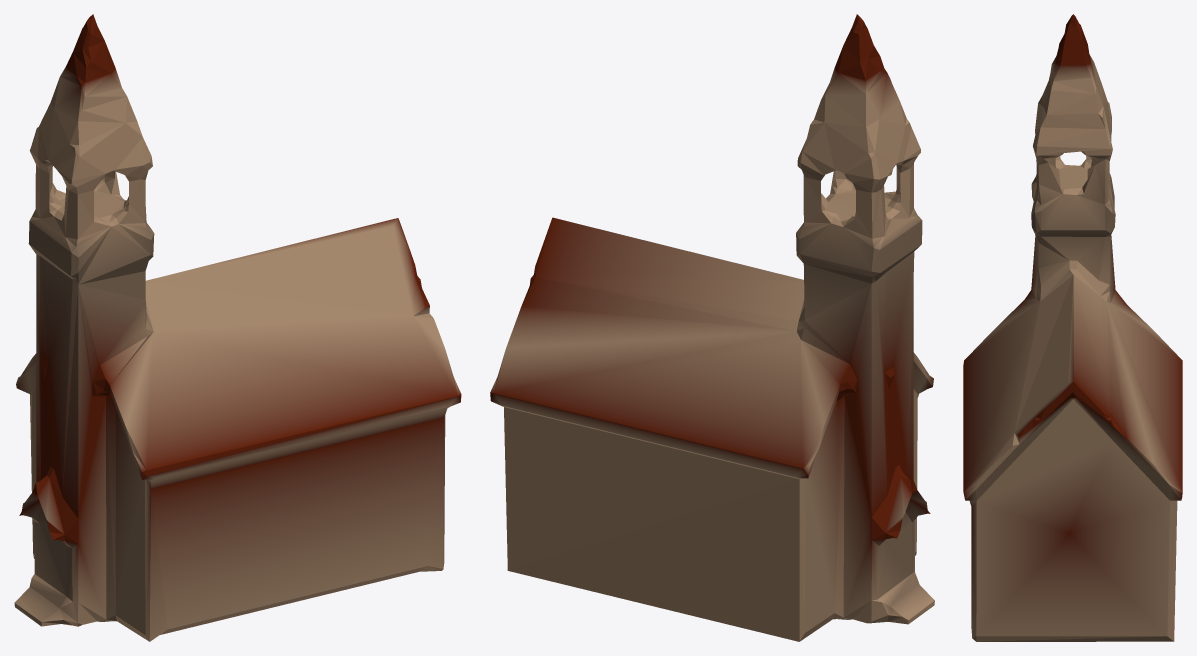
File: Churches.glb
The picture shows the model from 3 angles, left to right: view 1: azimuth 30°, elevation 25°; view 2: azimuth 150°, elevation 25°; view 3: azimuth 270°, elevation 25°; orthographic projection. The views are drawn at different scales.
Visible parts, largest first — view 1: Root; view 2: Root; view 3: Root.
Boxes of the visible parts, x1,y1,x2,y2 form: Root: (14, 14, 461, 641); Root: (490, 14, 934, 641); Root: (963, 14, 1182, 641).
Bounding box in the file's own units: 9.86 × 15.02 × 5.87.
